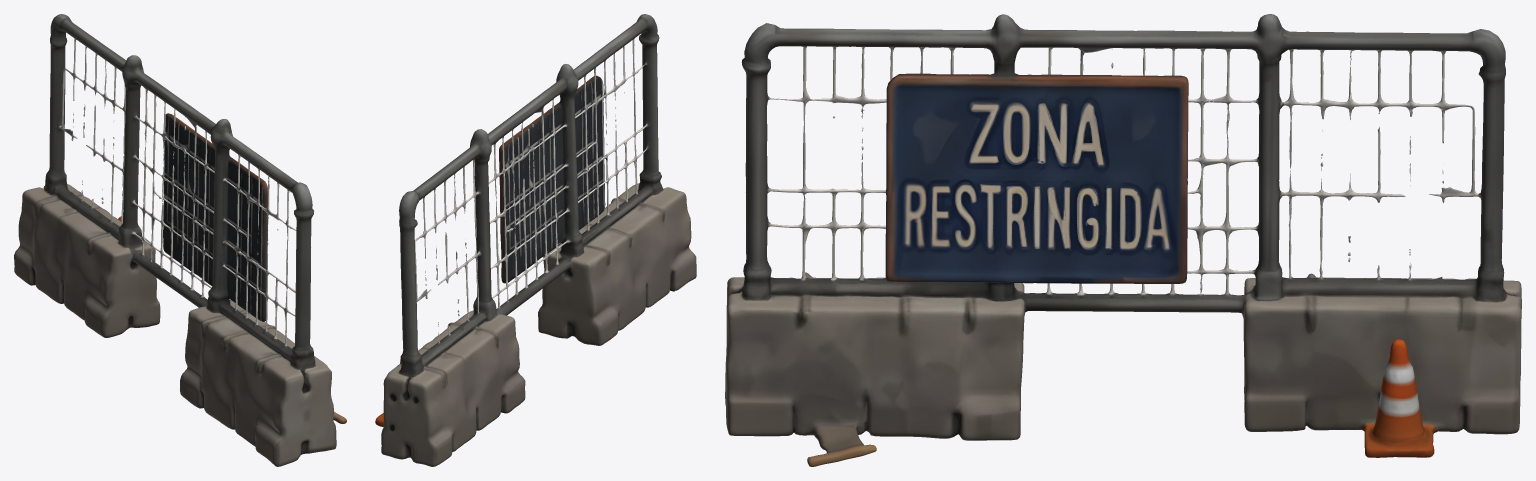
The model's file is SM_Prop_RoadBarrier_01.fbx.
3 renders of one model, left to right at view 1: azimuth 30°, elevation 25°; view 2: azimuth 150°, elevation 25°; view 3: azimuth 270°, elevation 25°, orthographic. The views are drawn at different scales.
Visible parts, largest first — view 1: SM_Prop_RoadBarrier_01; view 2: SM_Prop_RoadBarrier_01; view 3: SM_Prop_RoadBarrier_01.
Part boxes in pixels (left/top/right/bottom): SM_Prop_RoadBarrier_01: left=14, top=14, right=346, bottom=466; SM_Prop_RoadBarrier_01: left=375, top=14, right=696, bottom=466; SM_Prop_RoadBarrier_01: left=725, top=14, right=1521, bottom=466.
Bounding box in the file's own units: 0.2174 × 0.5671 × 0.9994.
Materials: 1 (1 with a texture image).
